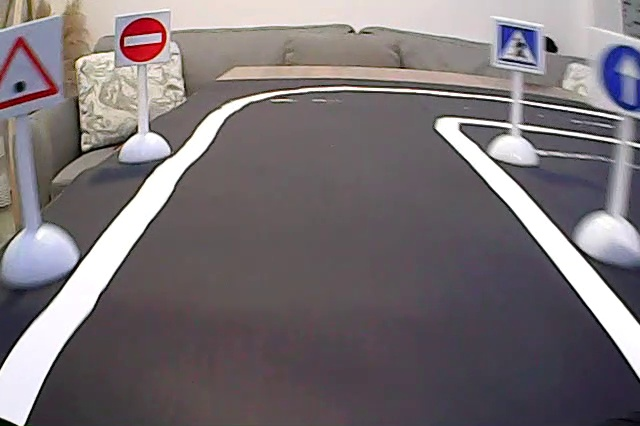do not enter: (114, 16, 172, 63)
green light: (2, 31, 61, 110)
pedestrian crossing: (494, 18, 544, 73)
